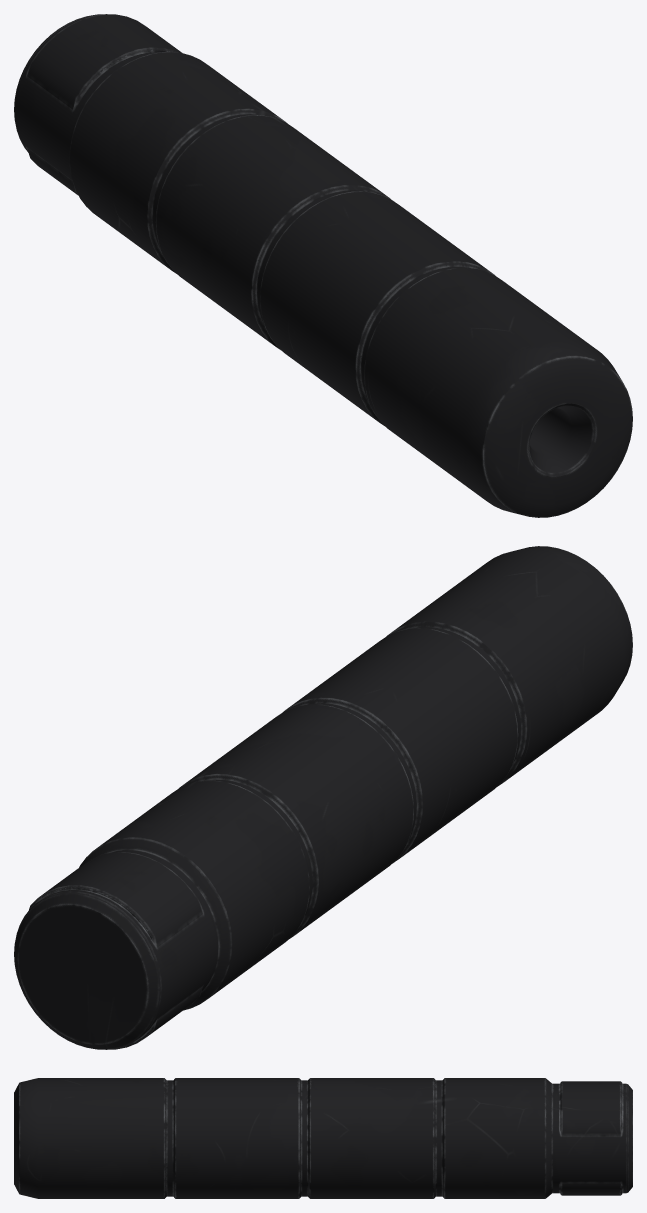
File: Suppressor_Sniper.fbx
The picture shows the model from 3 angles, top to bottom: view 1: azimuth 30°, elevation 25°; view 2: azimuth 150°, elevation 25°; view 3: azimuth 270°, elevation 25°; orthographic projection. The views are drawn at different scales.
Visible parts, largest first — view 1: Body; view 2: Body; view 3: Body.
Part boxes in pixels (x1,y1,x2,y2): Body: [14, 14, 632, 517]; Body: [14, 546, 632, 1049]; Body: [14, 1078, 632, 1198].
Bounding box in the file's own units: 0.045 × 0.045 × 0.23.
